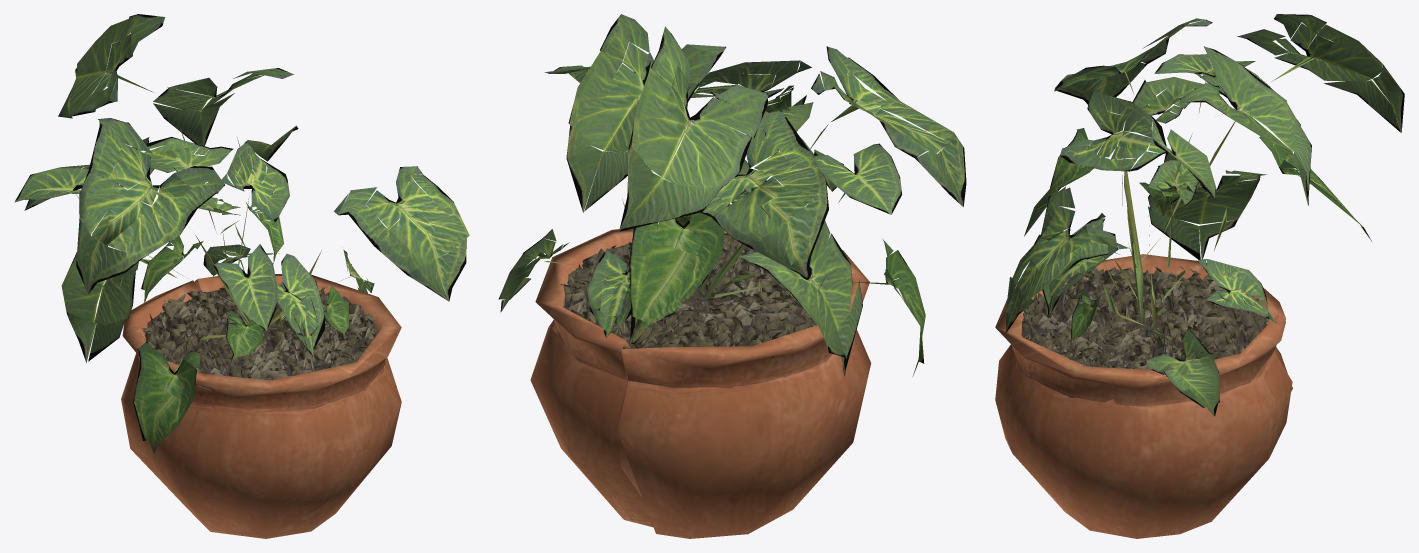
The model's file is plant_round.glb.
3 views of the same model, side by side, from view 1: azimuth 30°, elevation 25°; view 2: azimuth 150°, elevation 25°; view 3: azimuth 270°, elevation 25° (orthographic). The views are drawn at different scales.
Visible parts, largest first — view 1: plant_round; view 2: plant_round; view 3: plant_round.
Boxes of the visible parts, left/top/right/bottom form: plant_round: left=14, top=14, right=469, bottom=538; plant_round: left=498, top=14, right=966, bottom=538; plant_round: left=995, top=14, right=1404, bottom=538.
Size of the model in its own units: 0.7465 by 0.9011 by 0.7039.
2 materials, 2 textured.
